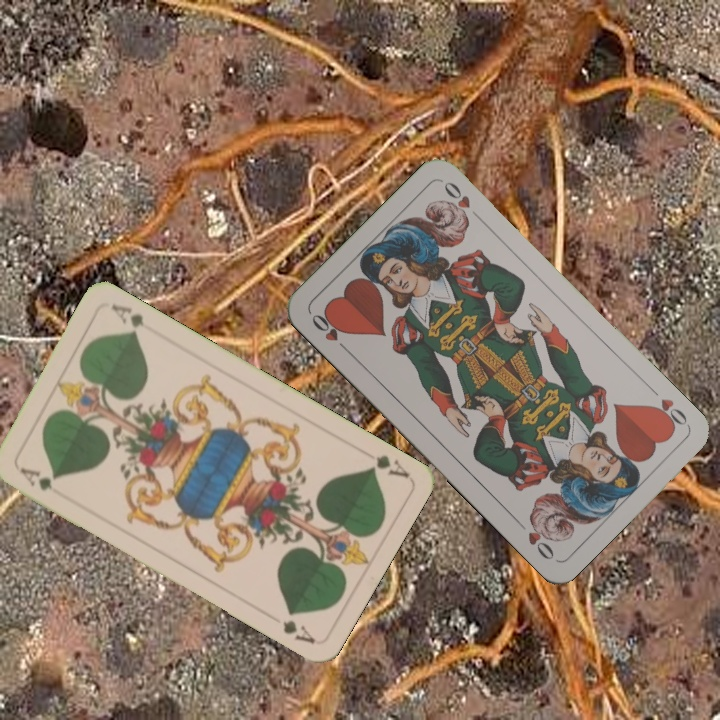GA: (365, 450, 412, 481), (16, 463, 61, 493)
HO: (645, 382, 690, 433), (307, 308, 353, 356)
